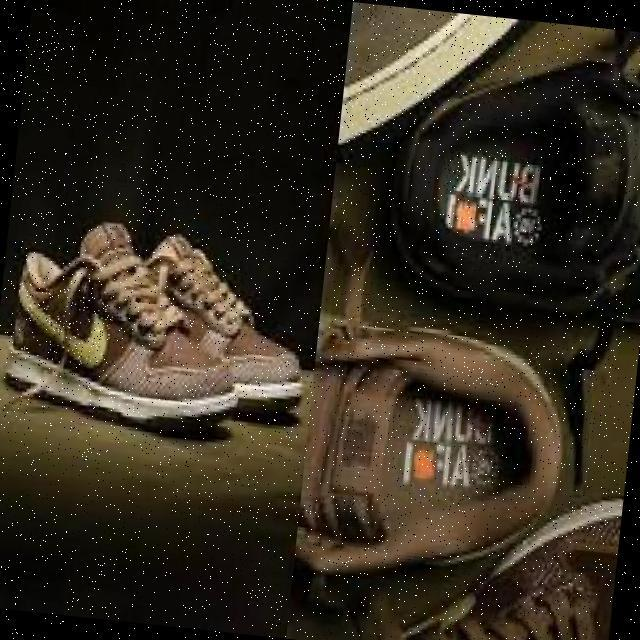Nike: (11, 281, 117, 367)
